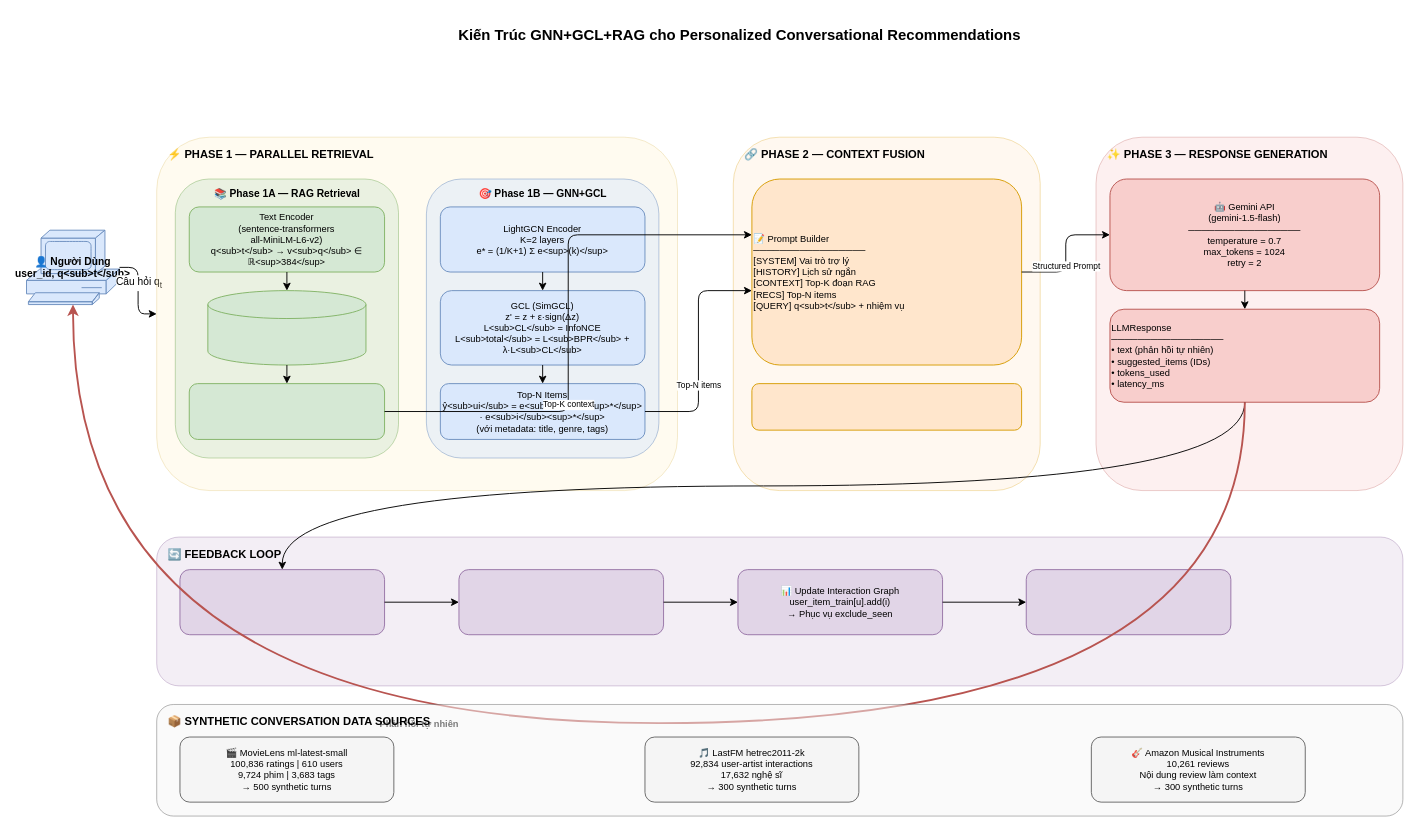
Some shapes in this 1420 by 832 pixel diagram are drawn without their labels. The shapes that lost their labels are listed below. From the top down, each one's centre as x and y in pixels, then its label:
At (286,327): "🗃 ChromaDB Vector Database Conversation Store (N turns, cosine sim)".
At (286,411): "Top-K Đoạn Hội Thoại (MMR Reranking) score = α·sem + (1-α)·rec".
At (886,406): "Token Estimator ≈ len(prompt) / 3".
At (282,602): "💾 Lưu vào ConversationStore (ChromaDB) turn = {query, response, items}".
At (561,602): "✅ User Accept Item → update_interaction() → invalidate_cache()".
At (1128,602): "🔁 Periodic Re-train (Optional - Async) Khi đủ new interactions".
